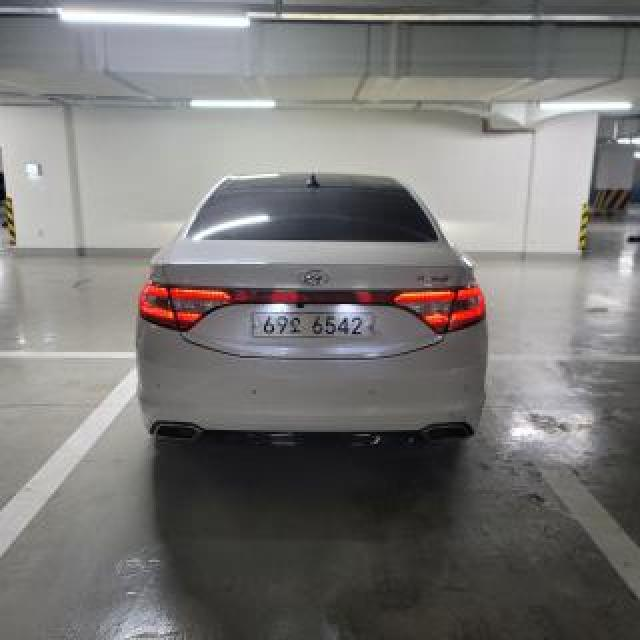car: (129, 165, 501, 460)
illegal_plate: (240, 307, 386, 345)
